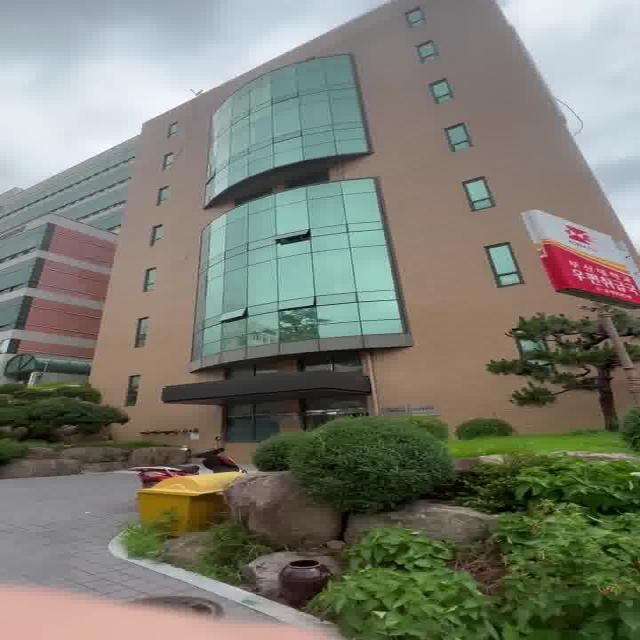building: (121, 56, 508, 412)
